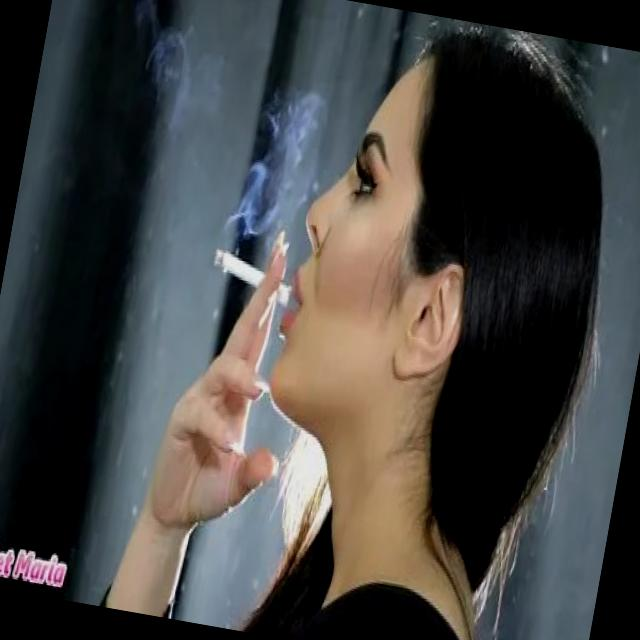smoke: (204, 242, 298, 326)
